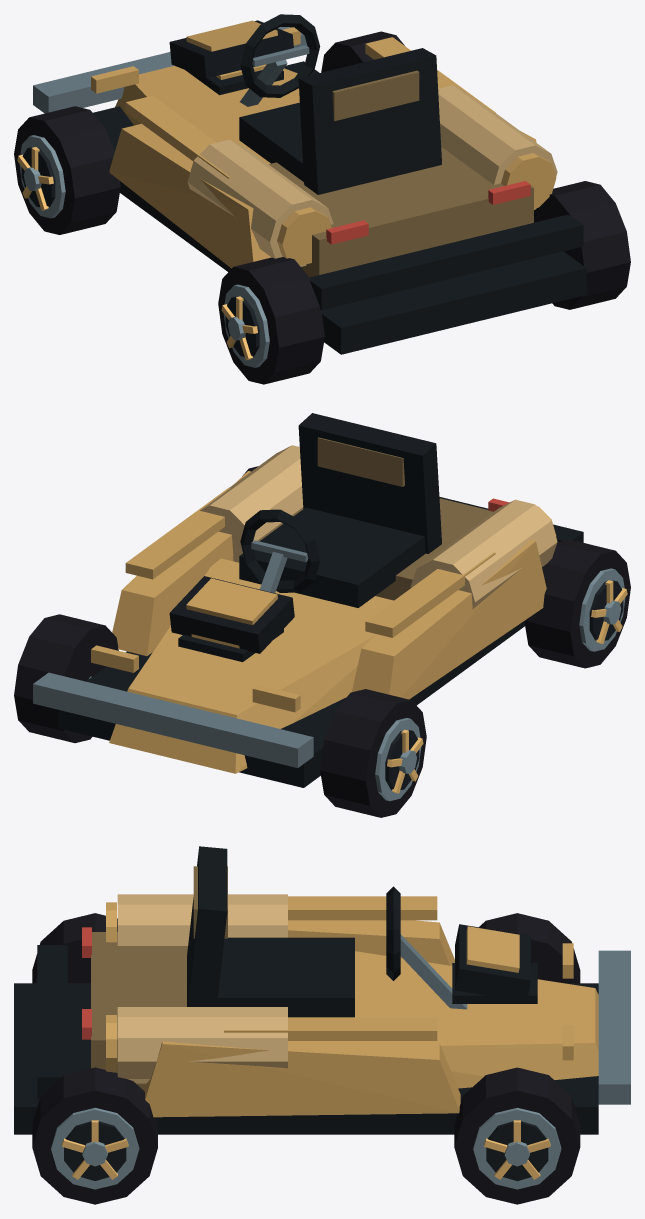
The model's file is kart.glb.
3 views of the same model, one above another, from view 1: azimuth 30°, elevation 25°; view 2: azimuth 150°, elevation 25°; view 3: azimuth 270°, elevation 25° (orthographic). The views are drawn at different scales.
Visible parts, largest first — view 1: chassis, wheel-rear-left, wheel-front-left, wheel-rear-right, wheel-front-right; view 2: chassis, wheel-front-left, wheel-rear-left, wheel-front-right; view 3: chassis, wheel-front-right, wheel-rear-right, wheel-front-left, wheel-rear-left.
Boxes of the visible parts, x1,y1,x2,y2 form: chassis: [33, 14, 586, 354]; wheel-rear-left: [218, 256, 324, 384]; wheel-front-left: [14, 106, 120, 234]; wheel-rear-right: [534, 181, 630, 309]; wheel-front-right: [321, 31, 404, 72]; chassis: [33, 413, 583, 787]; wheel-front-left: [320, 689, 426, 817]; wheel-rear-left: [524, 539, 630, 668]; wheel-front-right: [14, 614, 118, 743]; chassis: [14, 846, 630, 1134]; wheel-front-right: [454, 1067, 580, 1204]; wheel-rear-right: [32, 1067, 157, 1204]; wheel-front-left: [479, 913, 580, 983]; wheel-rear-left: [32, 913, 117, 983].
Size of the model in its own units: 2.24 by 1.3 by 3.04.
